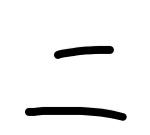eqv: (25, 46, 126, 121)
